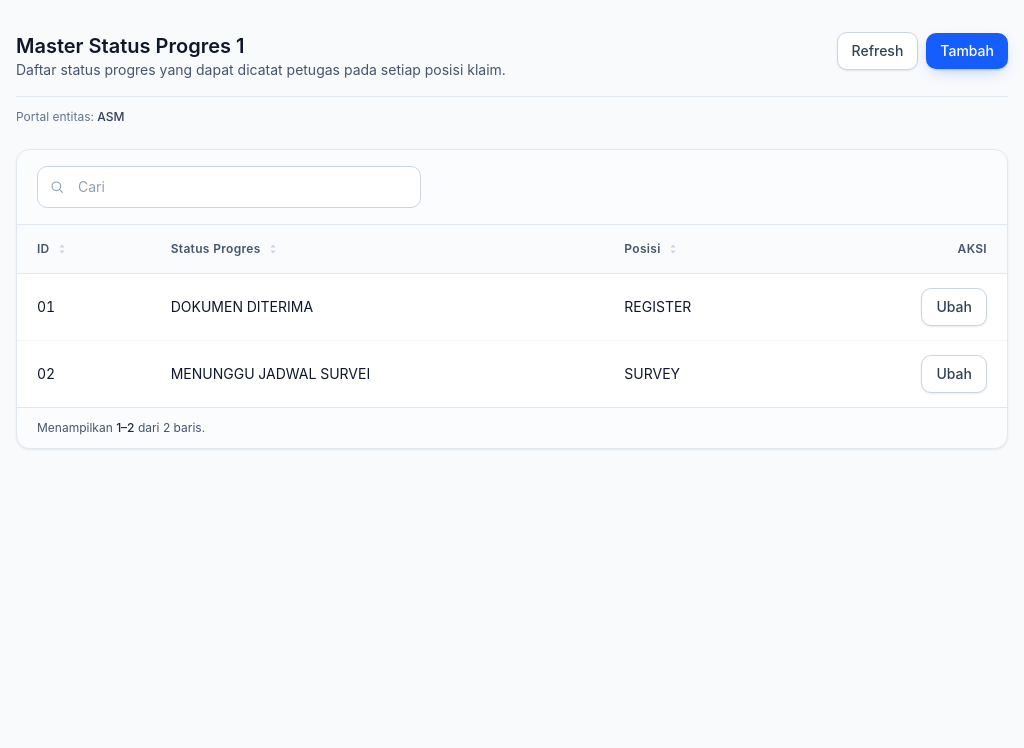
Test: penyuntingan › memuat isian baris yang dipilih dan menampilkan ID sebagai tidak dapat diubah
Click the button with aria-label "Ubah DOKUMEN DITERIMA" at (954, 307), box [922,288,987,326]
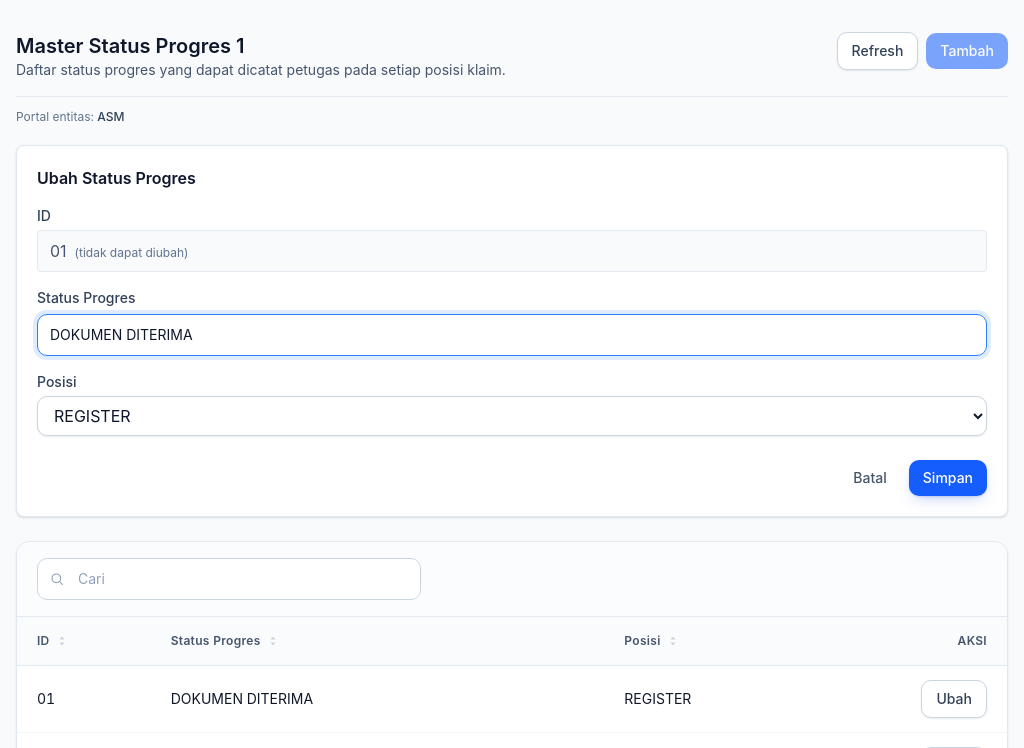
expect the field labelled "Status Progres" holds "DOKUMEN DITERIMA": met, box [37,314,987,356]
expect the dropdown labelled "Posisi" shows "REGISTER": met, box [37,396,987,436]
expect the text "(tidak dapat diubah)" is shown: met, box [75,245,188,260]
